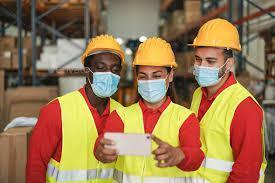helmet: (187, 18, 243, 49), (132, 36, 178, 68), (81, 34, 126, 64)
